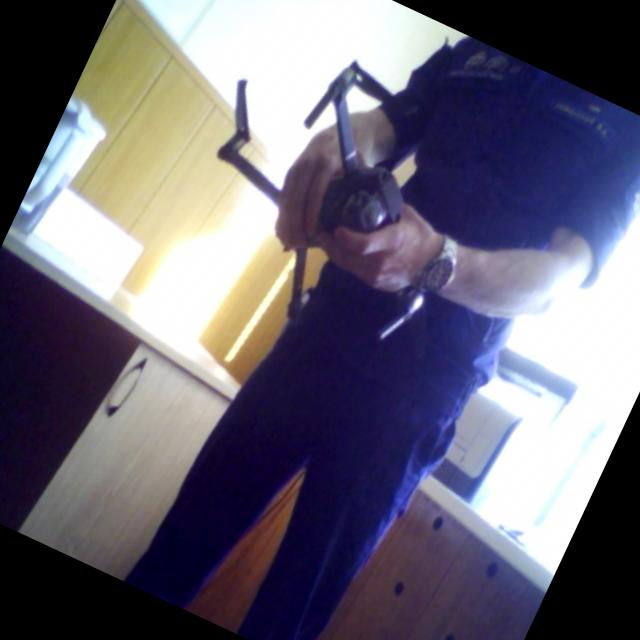drone: (137, 2, 538, 396)
